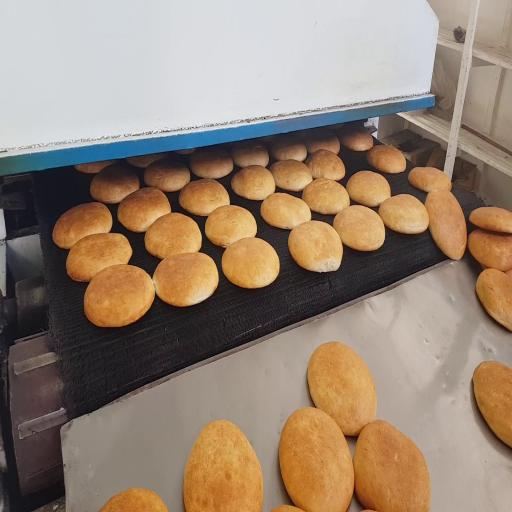bread: (279, 408, 354, 511), (184, 421, 263, 511), (354, 421, 430, 511), (308, 342, 377, 435), (84, 265, 154, 327), (153, 253, 218, 306), (473, 361, 511, 447), (66, 233, 132, 282), (425, 188, 467, 260), (222, 238, 279, 288), (288, 221, 342, 272), (53, 203, 112, 248), (145, 213, 201, 259), (334, 205, 385, 251), (118, 187, 170, 232), (476, 268, 511, 331), (205, 205, 257, 247), (379, 194, 429, 234), (90, 165, 139, 203), (179, 179, 229, 216), (468, 229, 511, 272), (261, 193, 311, 229), (302, 178, 349, 214), (347, 171, 390, 207), (231, 165, 275, 200), (100, 489, 167, 511), (144, 159, 190, 191), (190, 147, 233, 178), (270, 160, 312, 191), (306, 149, 345, 180), (367, 145, 406, 173), (408, 167, 451, 192), (470, 207, 511, 233), (231, 141, 269, 167), (271, 136, 307, 162), (305, 130, 340, 155), (339, 128, 373, 151), (126, 153, 169, 168), (74, 160, 117, 173), (271, 505, 301, 511), (174, 148, 195, 155)
